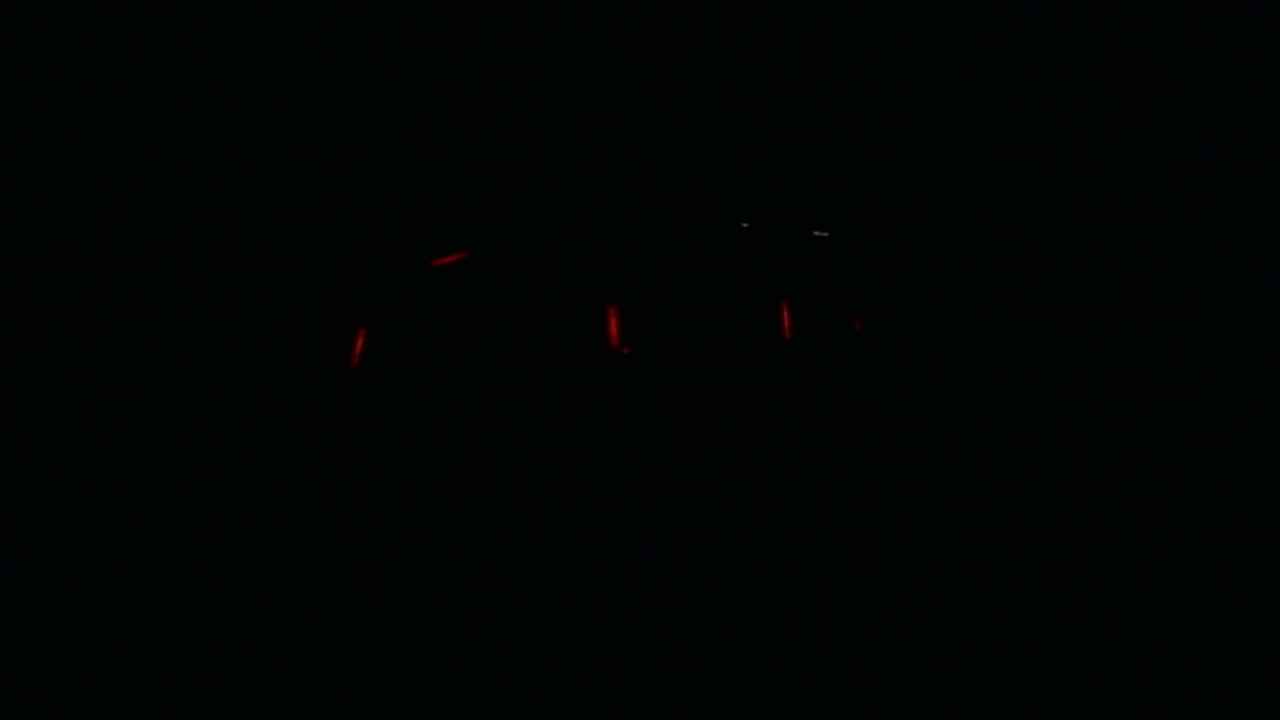lamp: (603, 304, 623, 349), (781, 303, 789, 348)
pair2: (602, 305, 792, 349)
